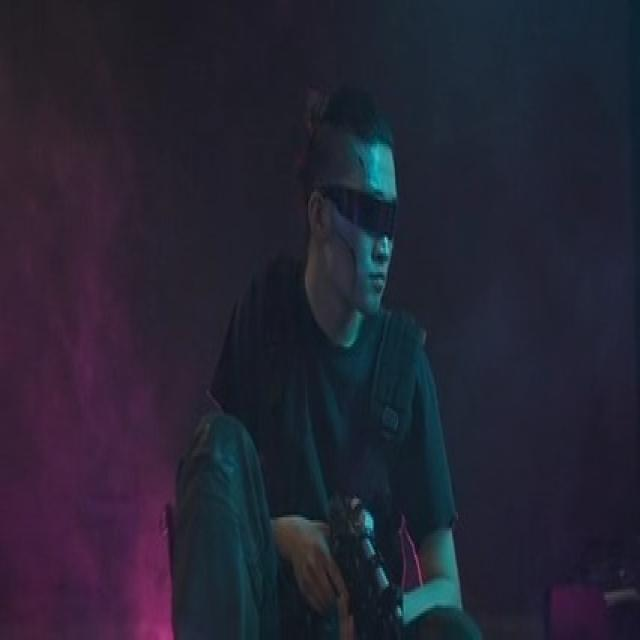Gun_Holder: (283, 480, 419, 640)
Person: (161, 88, 484, 634)
